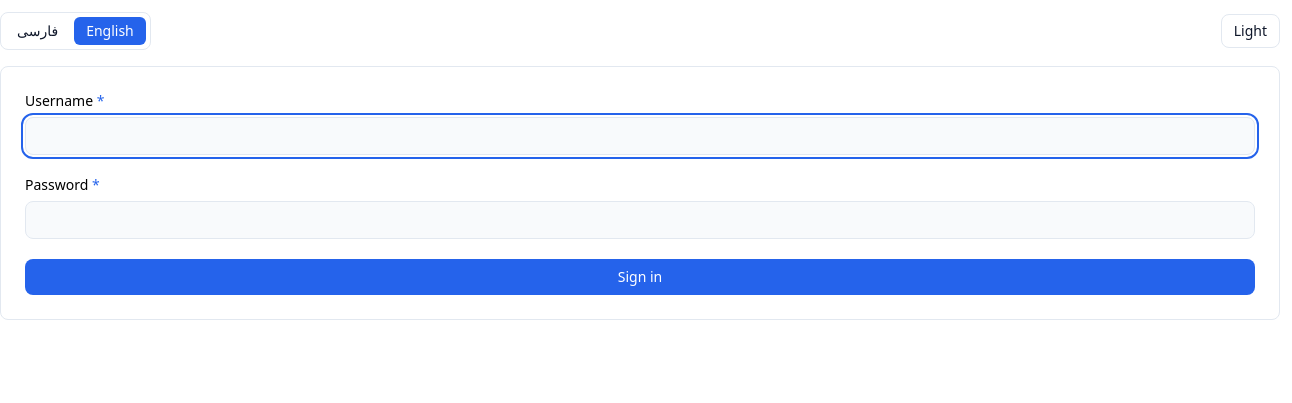
Test case: invalid credentials › shows the generic 401 message (no backend detail, no distinction)
Type "ghost" into the field labelled "Username *" at (640, 136), box x1=25 y1=117 x2=1255 y2=155
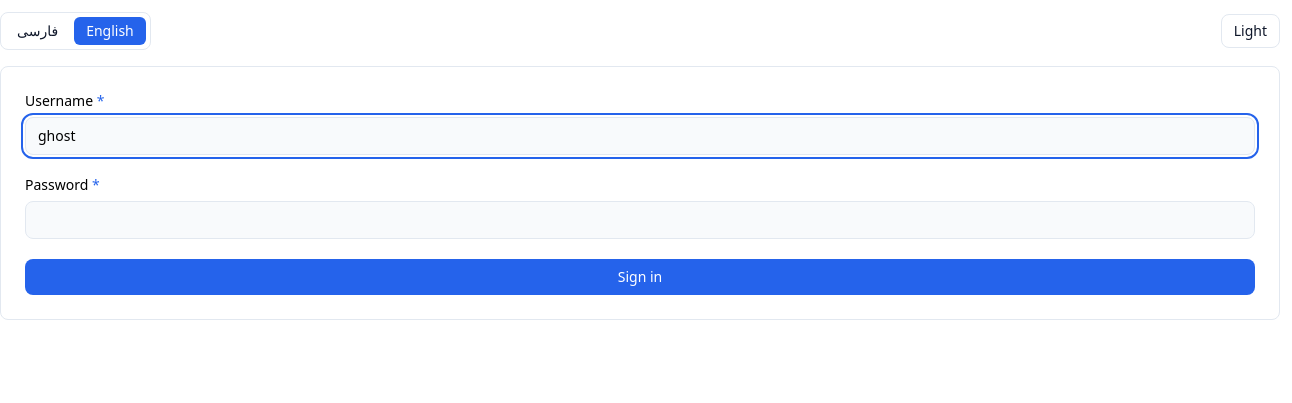
Type "wrong" into the password field labelled "Password *" at (640, 220), box x1=25 y1=201 x2=1255 y2=239
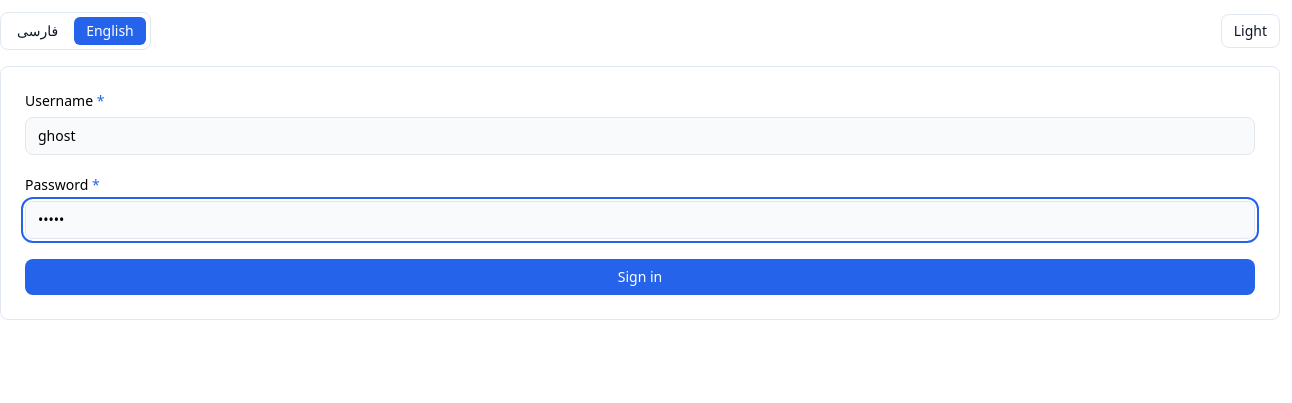
Click the button "Sign in" at (640, 277), box x1=25 y1=259 x2=1255 y2=295
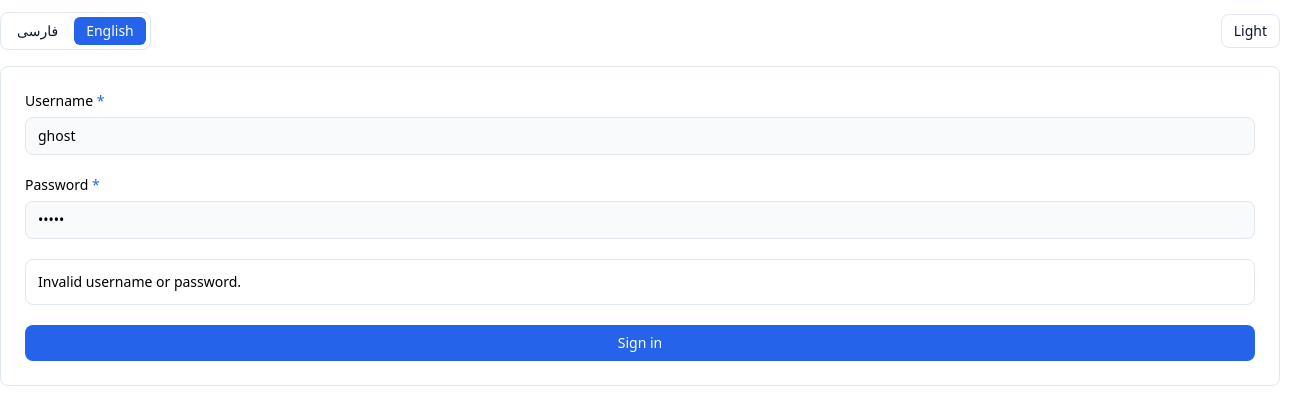
Expected: the message reads "Invalid username or password.", x1=38 y1=272 x2=241 y2=291
